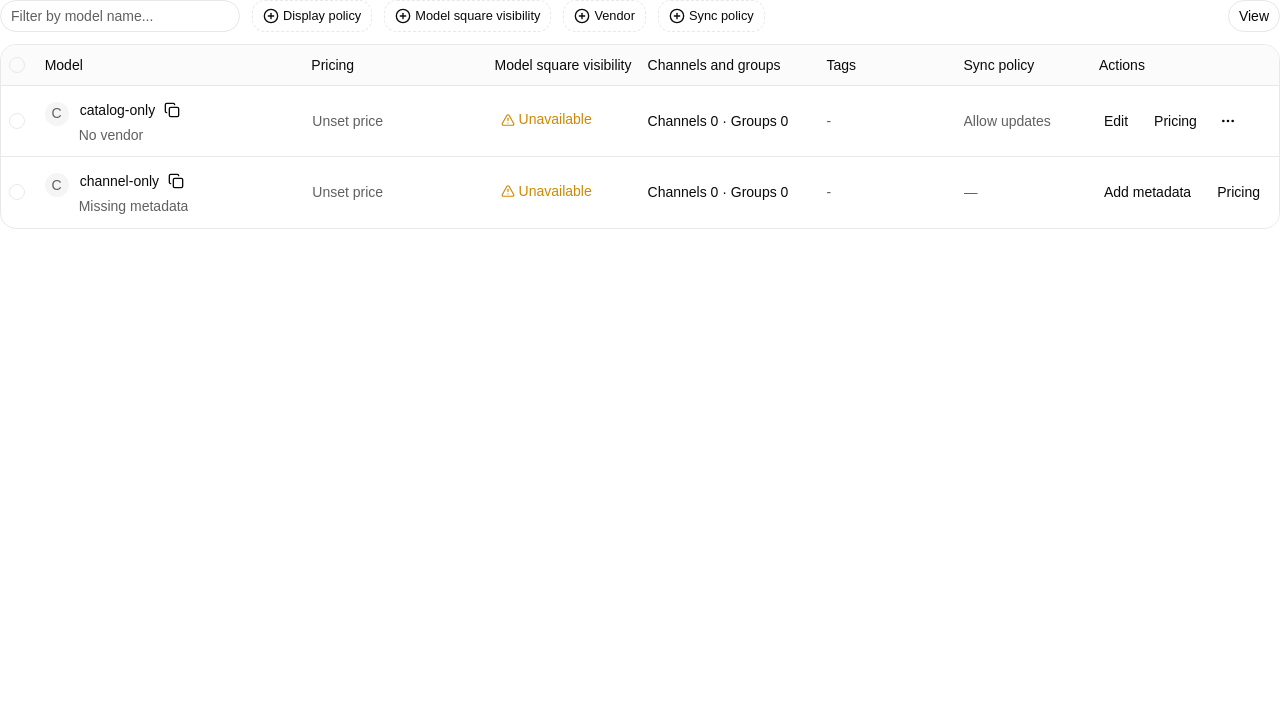
Test case: opens the warning icon’s own model reason and closes it on an outside click without selecting the row
Expected: the button "catalog-only" is shown, [79,98,156,120]
Click the 9th icon: [508, 192] box [501,184,515,198]
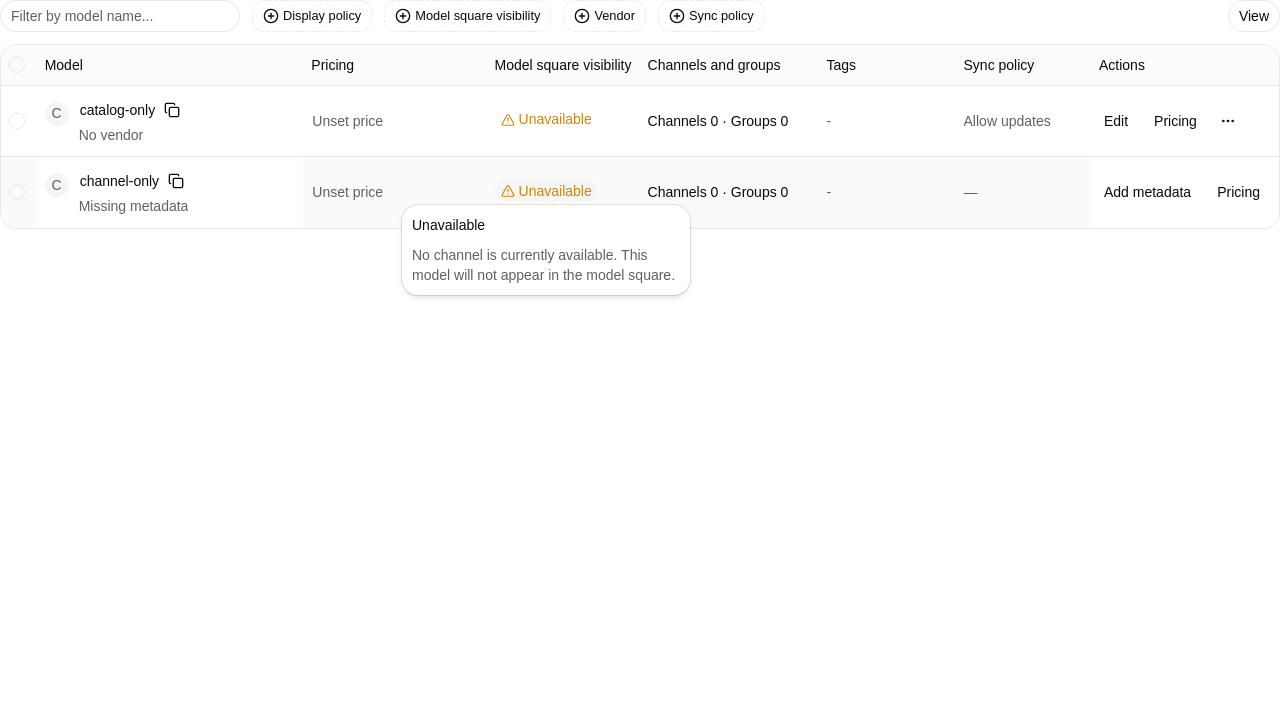
Expected: the dialog "Unavailable" does not show "No channel is configured.", [402,205,690,295]
Expected: the dialog "Unavailable" shows "No channel is currently available.", [412,247,675,283]
Click the field with placeholder "Filter by model name...": [120, 16] box [0,0,240,32]
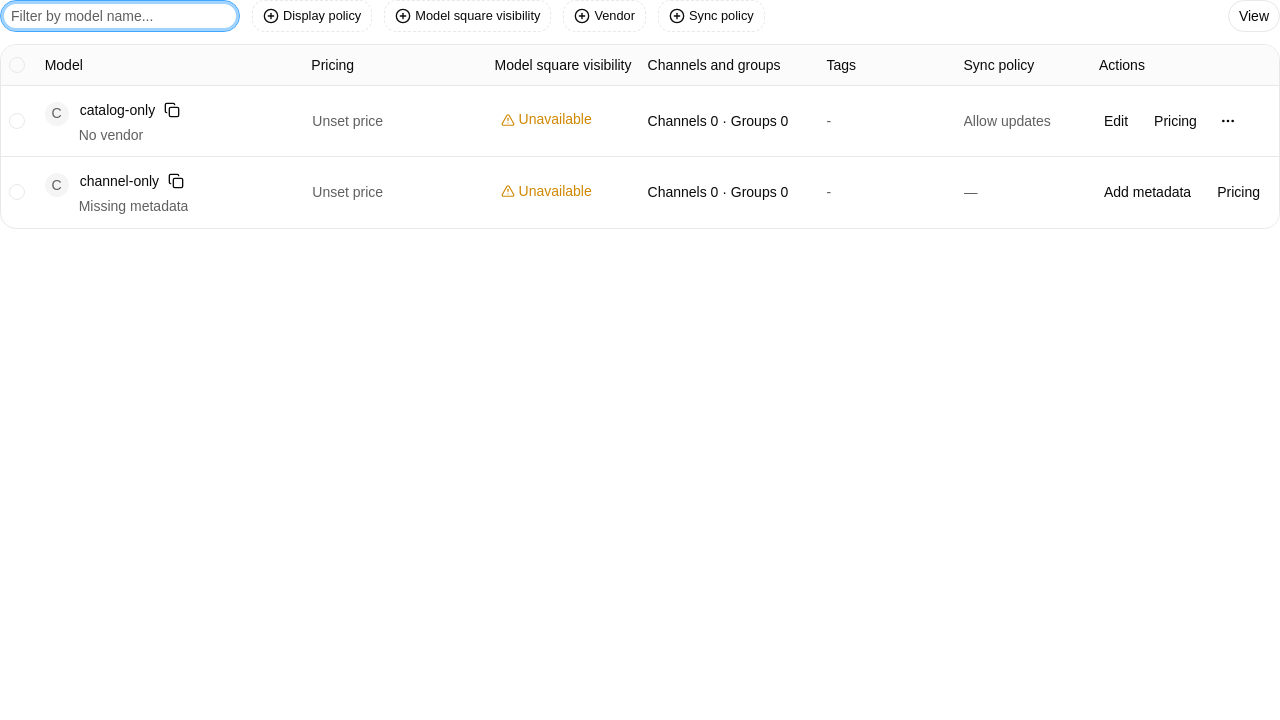
Click the button "Unavailable" in the row of "No vendor": [546, 120] box [495,110,598,130]
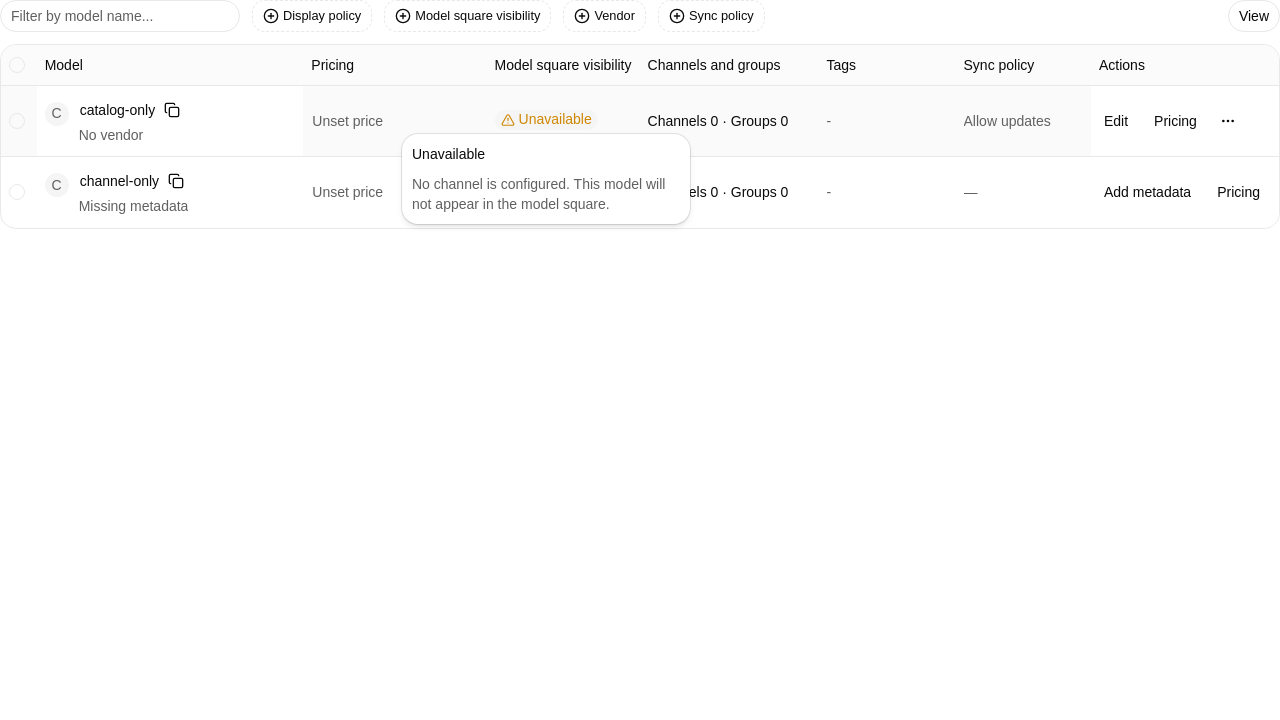
Expected: the dialog "Unavailable" shows "No channel is configured.", [412,176,665,212]
